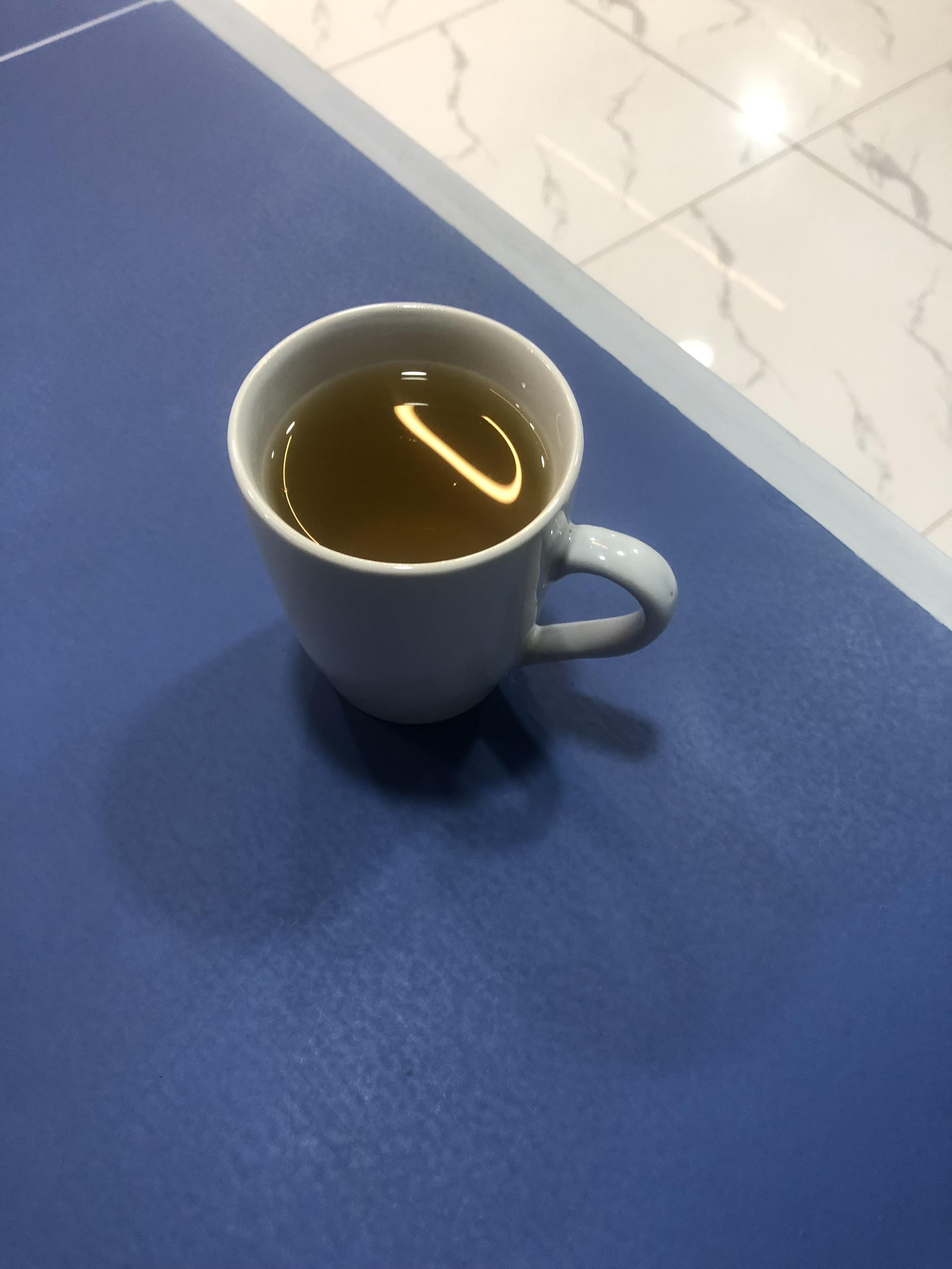cup-handle: (218, 287, 689, 730)
